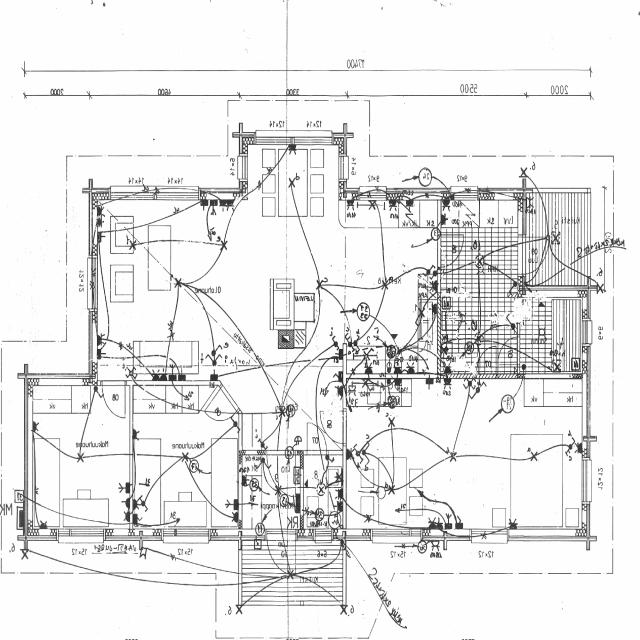door: (204, 384, 240, 434), (267, 528, 296, 580), (267, 450, 296, 496), (518, 237, 552, 273), (437, 234, 464, 266), (103, 379, 125, 417), (321, 410, 347, 442), (476, 344, 496, 378), (307, 422, 327, 455), (499, 337, 521, 364)
